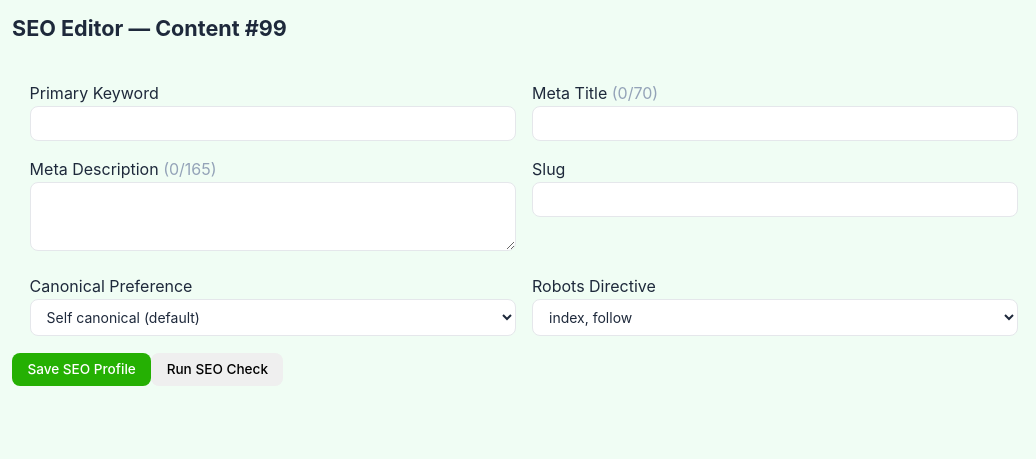
SeoEditorPage form fields › shows save error message on failure
Click the button "Save SEO Profile": (82, 370) [12,353,151,386]
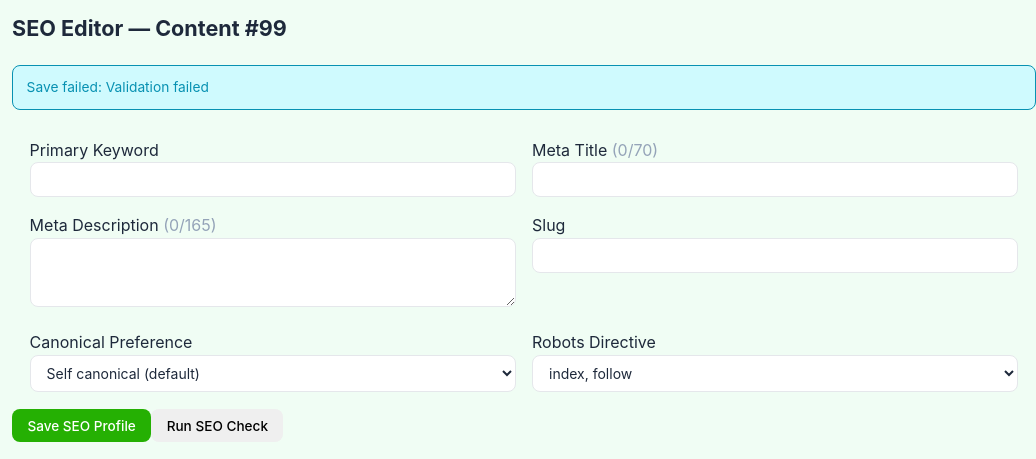
Expected: the text "Save failed: Validation failed" is shown, [12,66,1035,110]
